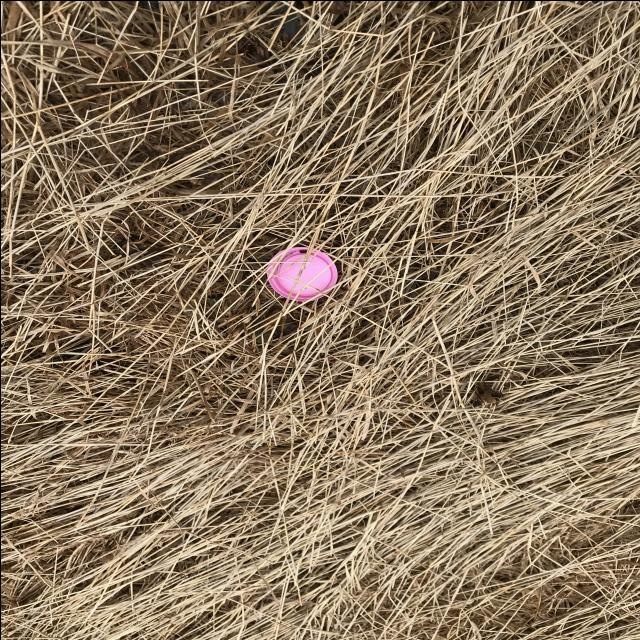Plastic bottle cap: (267, 246, 336, 300)
